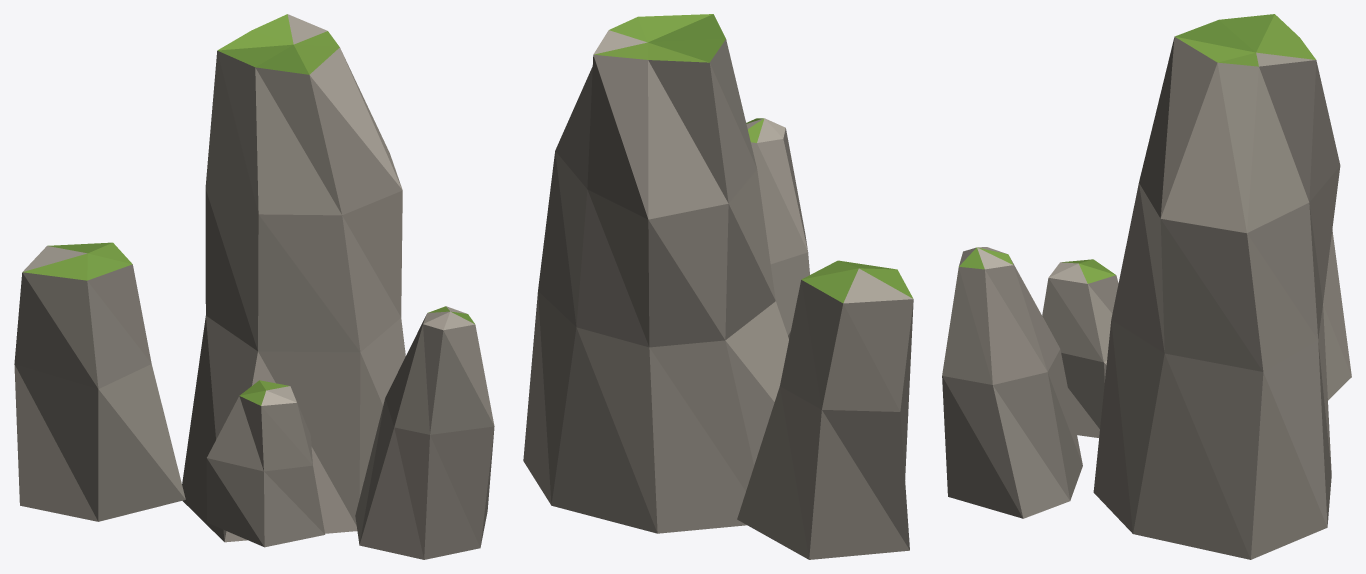
The model's file is Rock_Medium.obj.
3 renders of one model, left to right at view 1: azimuth 30°, elevation 25°; view 2: azimuth 150°, elevation 25°; view 3: azimuth 270°, elevation 25°, orthographic. The views are drawn at different scales.
Visible parts, largest first — view 1: Rock_Medium; view 2: Rock_Medium; view 3: Rock_Medium.
Part boxes in pixels (<box>): Rock_Medium: <box>14,14,494,559</box>; Rock_Medium: <box>523,14,913,559</box>; Rock_Medium: <box>942,14,1351,559</box>.
Size of the model in its own units: 1.44 by 1.55 by 1.28.
Materials: 1 (1 with a texture image).
